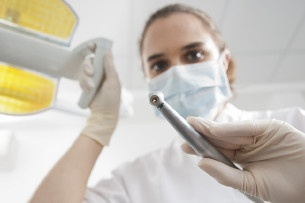Mask: (145, 41, 228, 125)
